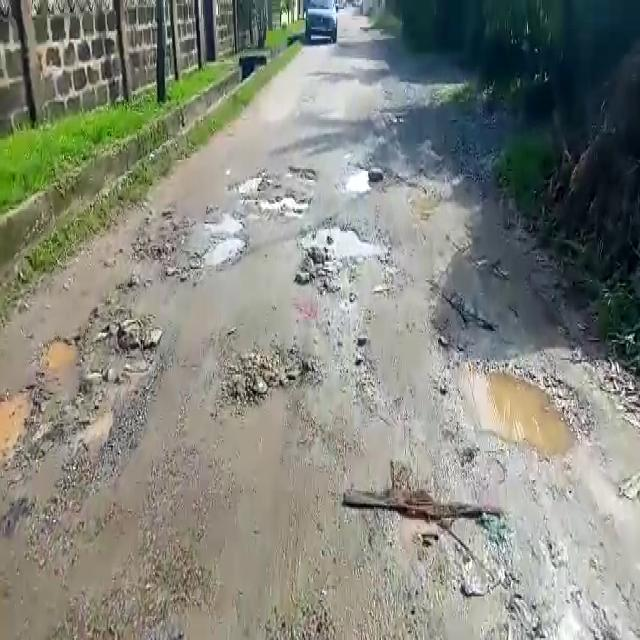Pothole: (448, 351, 580, 462), (289, 222, 401, 293), (0, 385, 40, 468), (197, 210, 247, 269), (242, 190, 318, 216), (40, 330, 80, 373), (341, 163, 376, 195)
